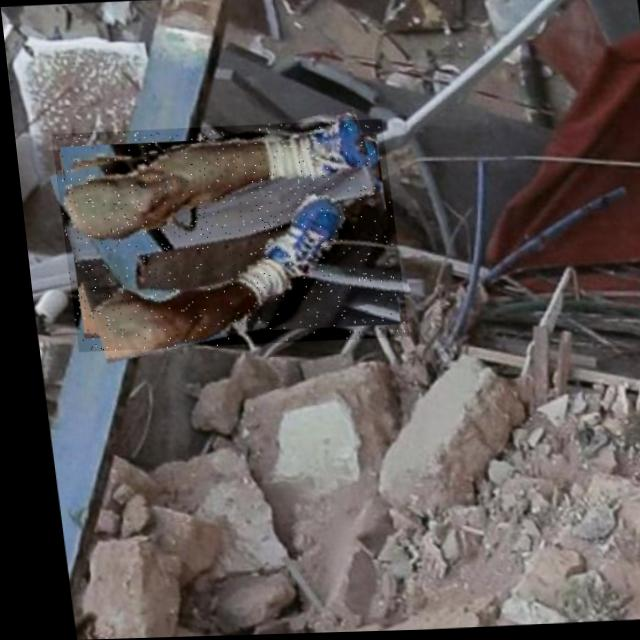Person in Rubble: (47, 119, 401, 351)
